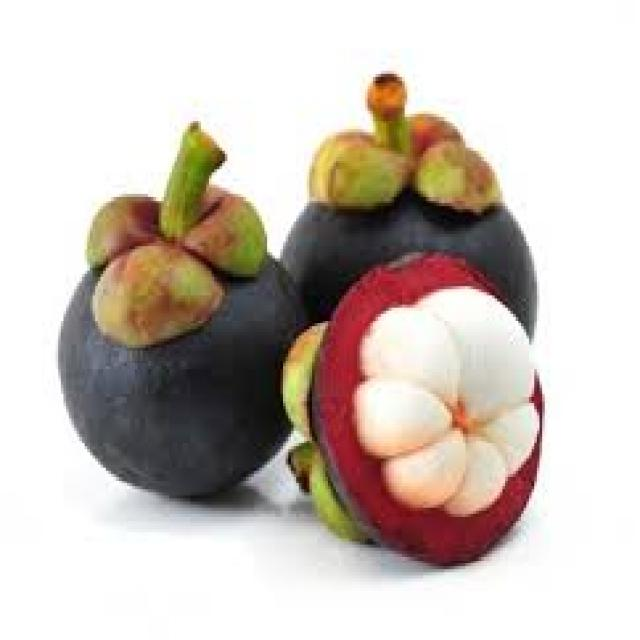organic waste: (56, 117, 312, 498), (278, 252, 542, 566), (275, 68, 537, 354)
